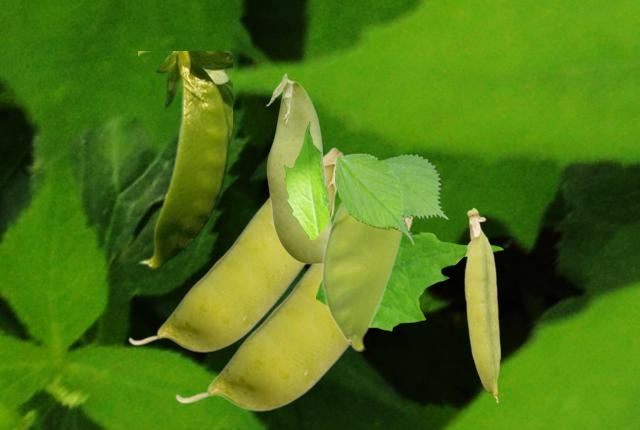pea: (175, 217, 415, 410), (128, 147, 343, 351), (138, 51, 231, 268), (321, 196, 409, 350), (265, 73, 331, 264), (464, 207, 500, 402)
